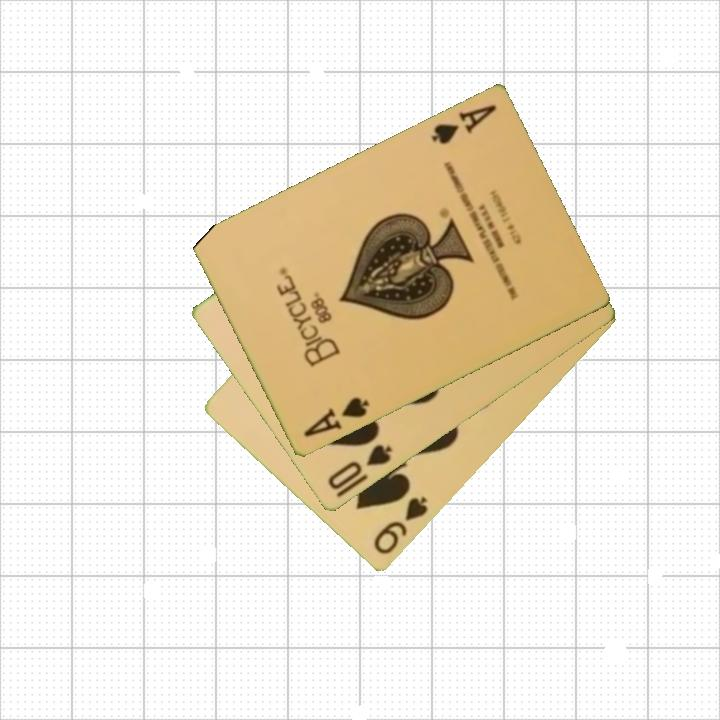10s: (324, 441, 396, 493)
9s: (370, 493, 431, 558)
As: (300, 394, 373, 441), (427, 101, 499, 148)
